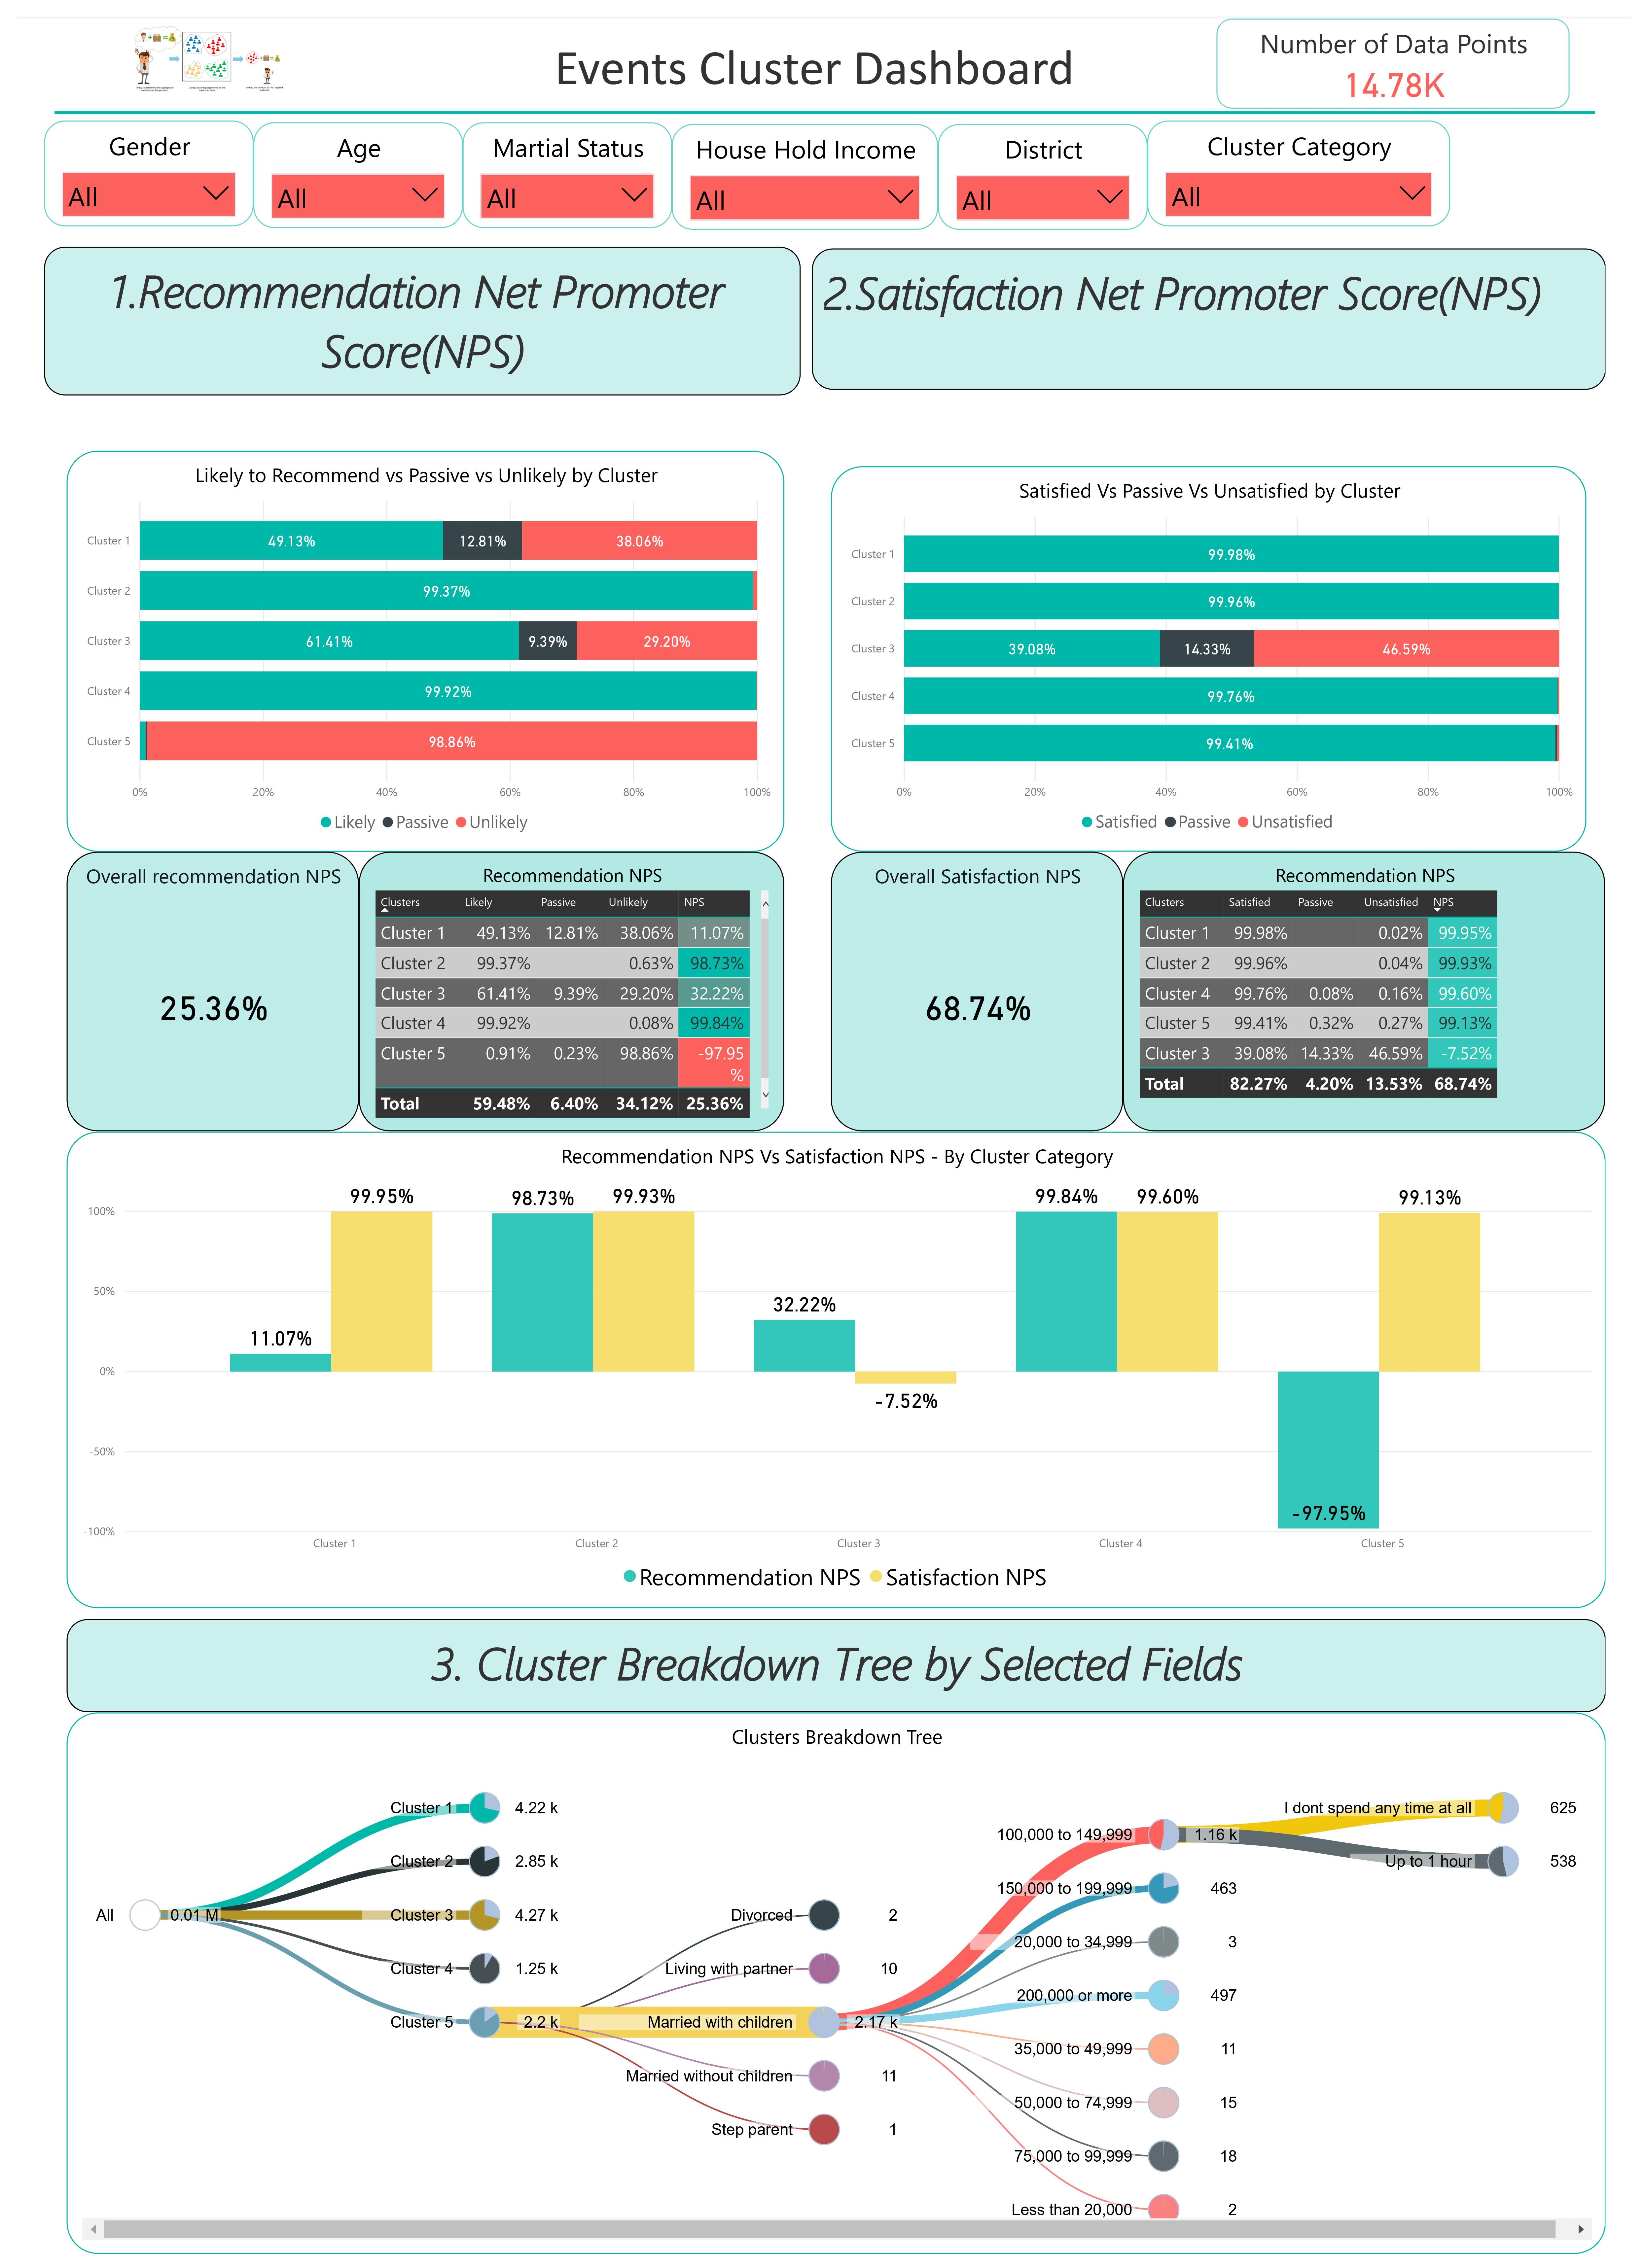

The dashboard page shown, as its layout file describes it:
{"tool":"powerbi","page":{"name":"Cluster NPS analytics","canvas":[1500,4100],"ordinal":1},"visuals":[{"type":"basicShape","box":[9.9,79.2,1490.1,13.2],"z":0},{"type":"image","box":[0,0,325.1,79.2],"z":1000},{"type":"card","title":"Number of Data Points","fields":{"Values":["CountNonNull(Events_Cluster_Output.age)"]},"box":[1128.7,0,336.6,85.8],"z":2000},{"type":"textbox","box":[0,11.6,1490.1,80.9],"z":3000},{"type":"slicer","title":"Gender","fields":{"Values":["Events_Cluster_Output.gender"]},"box":[9.9,97.4,199.7,100.7],"z":4000},{"type":"slicer","title":"Age","fields":{"Values":["Events_Cluster_Output.age"]},"box":[209.6,99,199.7,100.7],"z":5000},{"type":"slicer","title":"Martial Status","fields":{"Values":["Events_Cluster_Output.current_status"]},"box":[409.2,99,199.7,100.7],"z":6000},{"type":"slicer","title":"House Hold Income","fields":{"Values":["Events_Cluster_Output.total_household_income"]},"box":[608.9,100.7,254.1,100.7],"z":7000},{"type":"slicer","title":"District","fields":{"Values":["Events_Cluster_Output.district"]},"box":[863,100.7,199.7,100.7],"z":8000},{"type":"slicer","title":"Cluster Category","fields":{"Values":["Events_Cluster_Output.Clusters Category"]},"box":[1062.7,97.4,288.8,100.7],"z":9000},{"type":"textbox","box":[9.9,217.8,721.8,142.2],"z":10000},{"type":"textbox","box":[0,1374.6,1490.1,84.2],"z":11000},{"type":"textbox","box":[409.2,6656.8,420.8,381.2],"z":12000},{"type":"textbox","box":[741.9,219.5,758.1,135.3],"z":13000},{"type":"barChart","title":"Likely to Recommend vs Passive vs Unlikely by Cluster","fields":{"Category":["Events_Cluster_Output.Clusters Category"],"Y":["Events_Cluster_Output.Rec - Likely to Recommend","Events_Cluster_Output.Rec - Passive to Recommend","Events_Cluster_Output.Rec - Unlikely to Recommend"]},"box":[31.4,412.5,684.8,382.8],"z":14000},{"type":"card","title":"Overall recommendation NPS","fields":{"Values":["Events_Cluster_Output.Rec - Recommendation NPS"]},"box":[31.4,795.4,278.9,267.3],"z":15000},{"type":"tableEx","title":"Recommendation NPS","fields":{"Values":["Events_Cluster_Output.Clusters Category","Events_Cluster_Output.Rec - Likely to Recommend","Events_Cluster_Output.Rec - Passive to Recommend","Events_Cluster_Output.Rec - Unlikely to Recommend","Events_Cluster_Output.Rec - Recommendation NPS"]},"box":[310.2,795.4,405.9,267.3],"z":16000},{"type":"barChart","title":"Satisfied Vs Passive Vs Unsatisfied by Cluster","fields":{"Category":["Events_Cluster_Output.Clusters Category"],"Y":["Events_Cluster_Output.Sat - Satisfied","Events_Cluster_Output.Sat - Passive","Events_Cluster_Output.Sat - Unsatisfied"]},"box":[760.7,427.4,721.1,368],"z":16001},{"type":"card","title":"Overall Satisfaction NPS","fields":{"Values":["Events_Cluster_Output.Sat - Satisfaction NPS"]},"box":[760.7,795.4,278.9,267.3],"z":16002},{"type":"tableEx","title":"Recommendation NPS","fields":{"Values":["Events_Cluster_Output.Clusters Category","Events_Cluster_Output.Sat - Satisfied","Events_Cluster_Output.Sat - Passive","Events_Cluster_Output.Sat - Unsatisfied","Events_Cluster_Output.Sat - Satisfaction NPS"]},"box":[1039.6,795.4,460.4,267.3],"z":16003},{"type":"clusteredColumnChart","title":"Recommendation NPS Vs Satisfaction NPS - By Cluster Category","fields":{"Category":["Events_Cluster_Output.Clusters Category"],"Y":["Events_Cluster_Output.Rec - Recommendation NPS","Events_Cluster_Output.Sat - Satisfaction NPS"]},"box":[31.4,1062.7,1468.6,455.4],"z":16004},{"type":"textbox","box":[31.4,1528.1,1468.6,89.1],"z":16005},{"type":"testTooltip4696B540F3494FE5BA002362825DDE7D","title":"Clusters Breakdown Tree","fields":{"category":["Events_Cluster_Output.Clusters Category","Events_Cluster_Output.current_status","Events_Cluster_Output.total_household_income","Events_Cluster_Output.social_media"],"measure":["CountNonNull(Events_Cluster_Output.customer)"]},"box":[31.4,1617.2,1468.6,516.5],"z":16006}]}

Visuals, with their boxes on the page's 1500x4100 design canvas (x1, y1, x2, y2). These are canvas units, not pixel positions in the 1646x2268 screenshot, which may show the page scaled, cropped or inside an application window:
basicShape: (10, 79, 1500, 92)
image: (0, 0, 325, 79)
"Number of Data Points" card: (1129, 0, 1465, 86)
textbox: (0, 12, 1490, 92)
"Gender" slicer: (10, 97, 210, 198)
"Age" slicer: (210, 99, 409, 200)
"Martial Status" slicer: (409, 99, 609, 200)
"House Hold Income" slicer: (609, 101, 863, 201)
"District" slicer: (863, 101, 1063, 201)
"Cluster Category" slicer: (1063, 97, 1352, 198)
textbox: (10, 218, 732, 360)
textbox: (0, 1375, 1490, 1459)
textbox: (409, 6657, 830, 7038)
textbox: (742, 220, 1500, 355)
"Likely to Recommend vs Passive vs Unlikely by Cluster" barChart: (31, 412, 716, 795)
"Overall recommendation NPS" card: (31, 795, 310, 1063)
"Recommendation NPS" tableEx: (310, 795, 716, 1063)
"Satisfied Vs Passive Vs Unsatisfied by Cluster" barChart: (761, 427, 1482, 795)
"Overall Satisfaction NPS" card: (761, 795, 1040, 1063)
"Recommendation NPS" tableEx: (1040, 795, 1500, 1063)
"Recommendation NPS Vs Satisfaction NPS - By Cluster Category" clusteredColumnChart: (31, 1063, 1500, 1518)
textbox: (31, 1528, 1500, 1617)
"Clusters Breakdown Tree" testTooltip4696B540F3494FE5BA002362825DDE7D: (31, 1617, 1500, 2134)
